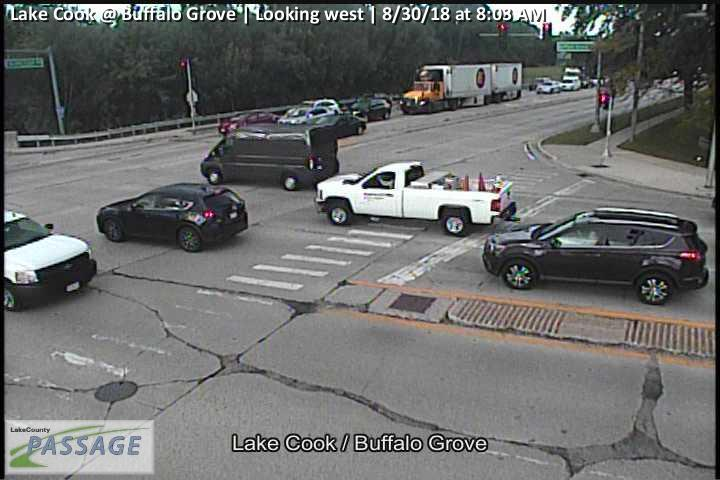SUV: (484, 207, 709, 307), (97, 183, 248, 250), (201, 125, 340, 191), (289, 98, 339, 123), (351, 98, 391, 121)
Sedan: (304, 112, 366, 138), (220, 112, 282, 134), (285, 105, 336, 125)
Truck: (316, 161, 511, 233), (400, 60, 522, 113), (562, 73, 581, 90), (537, 80, 560, 94)
